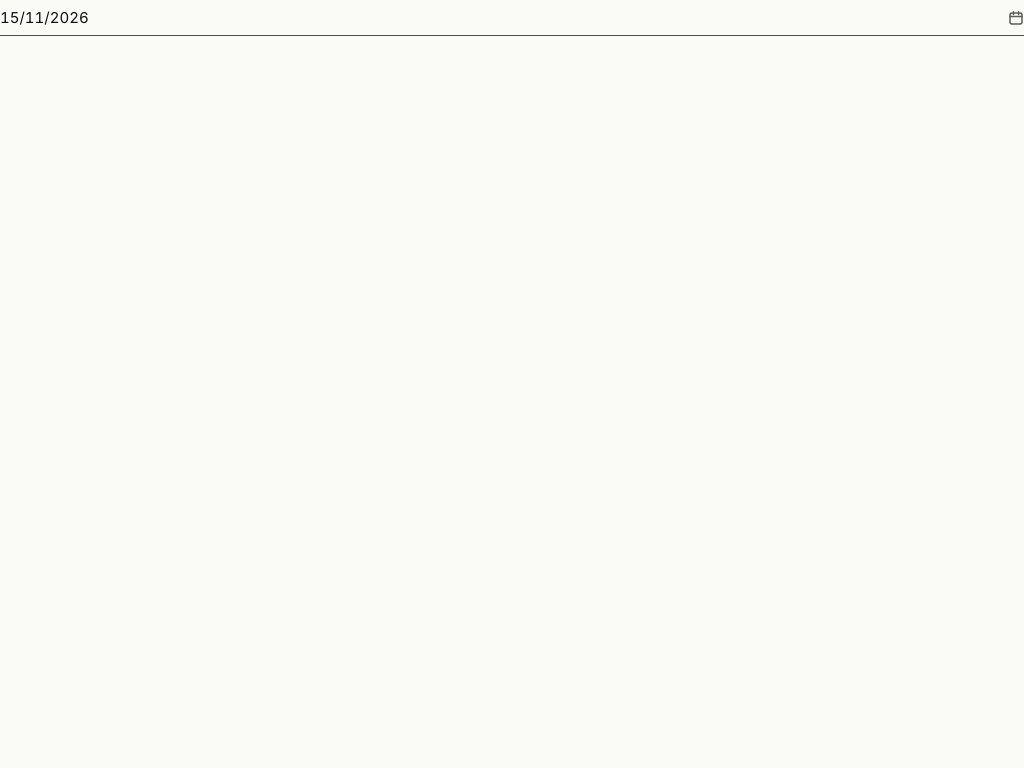
Test: DatePicker › abre o calendário, navega entre meses, seleciona dia e devolve o foco ao botão
Step 1. Click the button → x=44, y=18, box x1=0 y1=0 x2=1023 y2=36
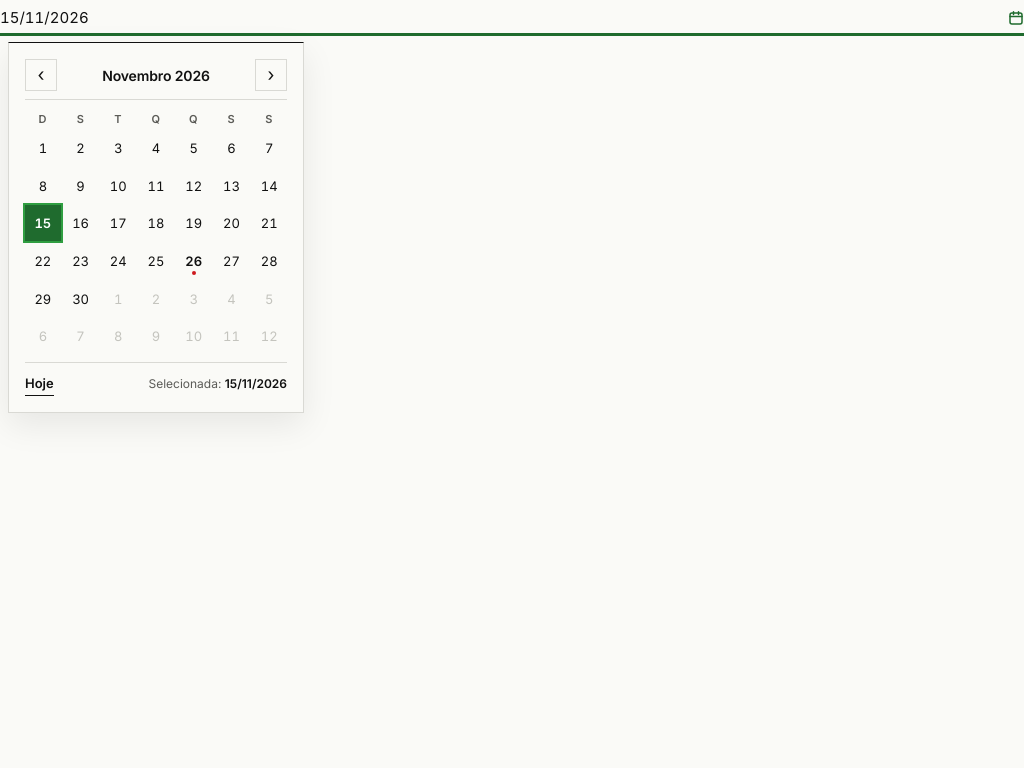
Result: the dialog named "Escolher data" is shown at x1=8 y1=42 x2=304 y2=413
Result: the text "Novembro 2026" is shown at x1=102 y1=66 x2=210 y2=84
Step 2. Click the button named "Próximo mês" → x=271, y=75, box x1=255 y1=59 x2=287 y2=91
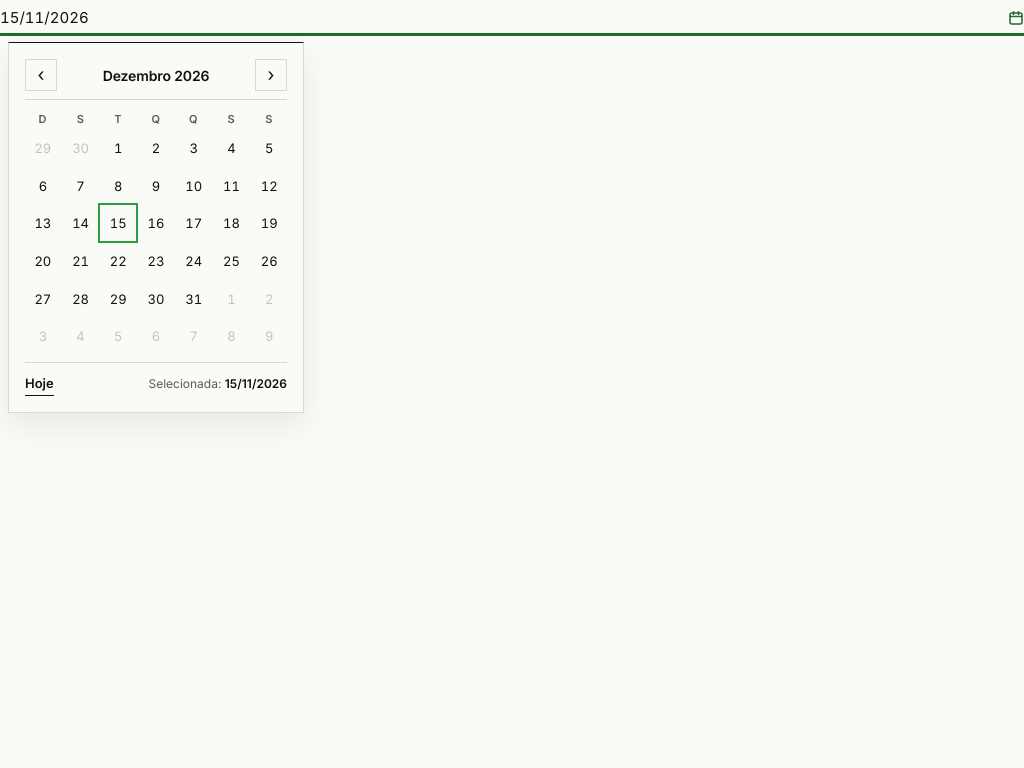
Result: the text "Dezembro 2026" is shown at x1=103 y1=66 x2=209 y2=84
Step 3. Click the button named "Mês anterior" → x=41, y=75, box x1=25 y1=59 x2=57 y2=91
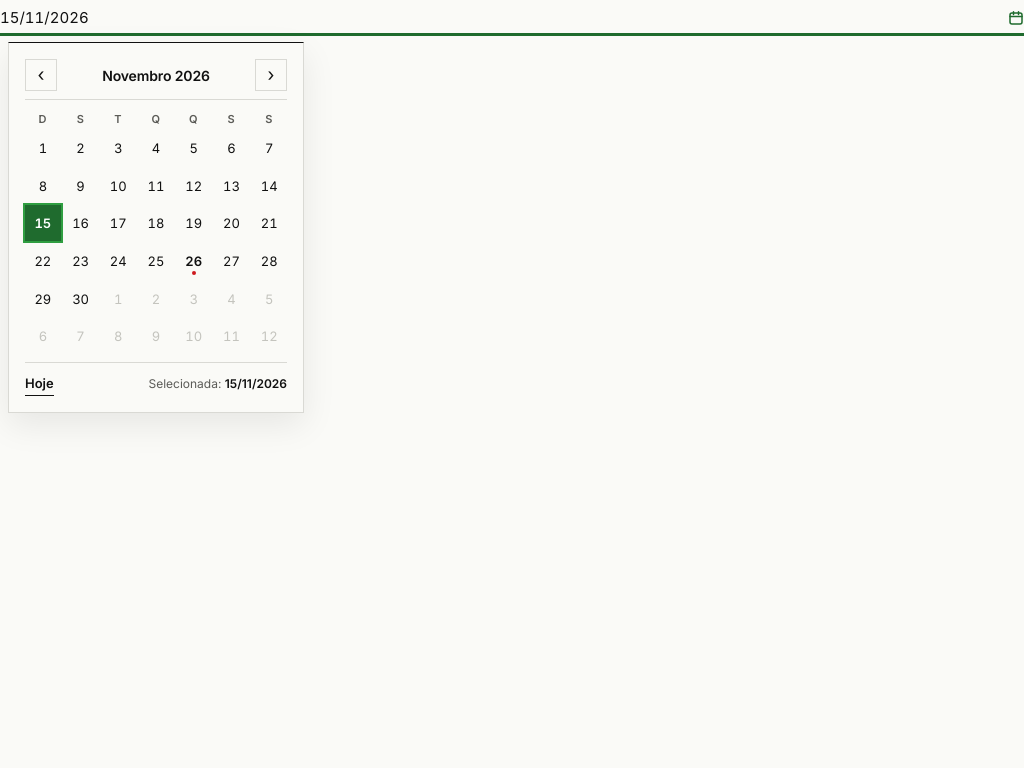
Result: the text "Novembro 2026" is shown at x1=102 y1=66 x2=210 y2=84
Step 4. Click the button named "20 de Novembro de 2026" → x=231, y=223, box x1=214 y1=205 x2=249 y2=241
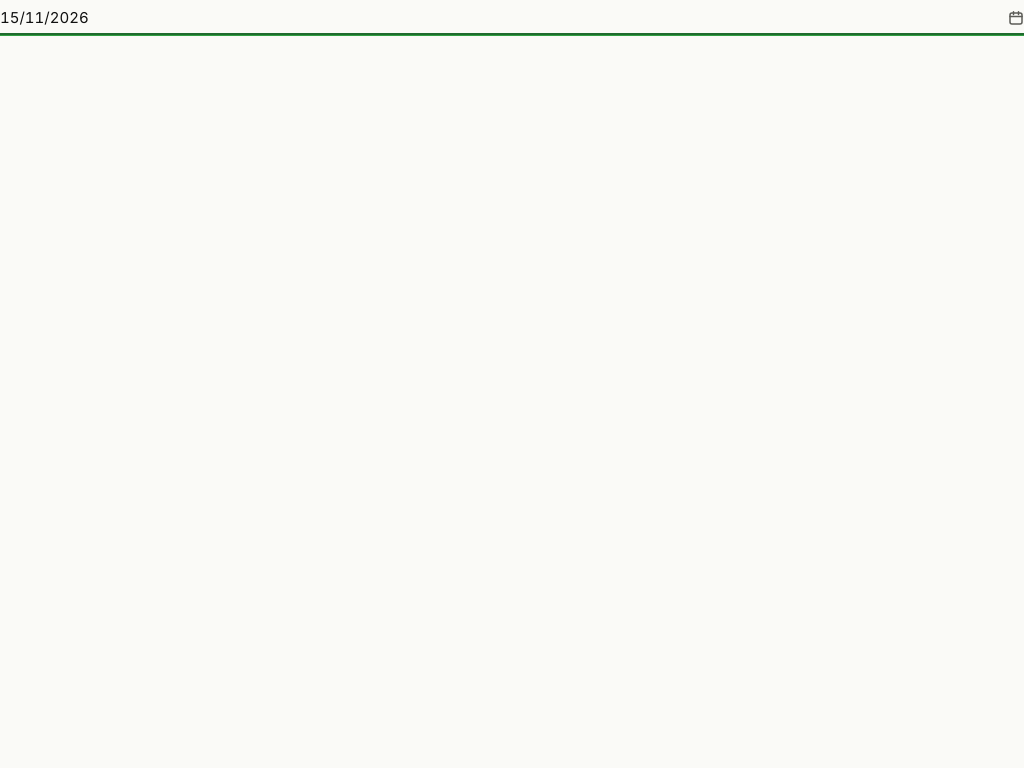
Result: the dialog is gone
